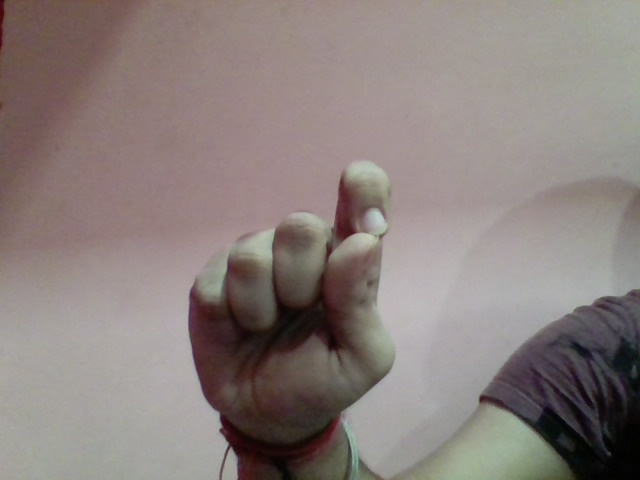t: (176, 152, 408, 432)
